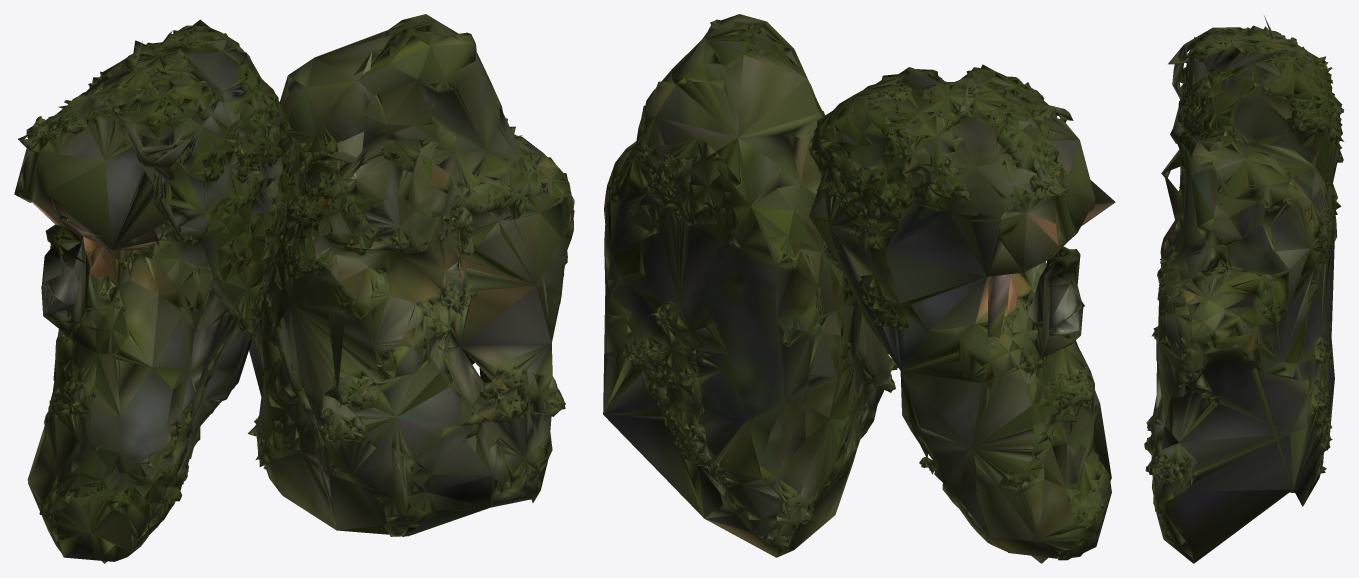
File: prop_rock_cluster_01.glb
3 views of the same model, side by side, from view 1: azimuth 30°, elevation 25°; view 2: azimuth 150°, elevation 25°; view 3: azimuth 270°, elevation 25° (orthographic). The views are drawn at different scales.
Parts seen in each view (by area): view 1: geometry_0; view 2: geometry_0; view 3: geometry_0.
Part boxes in pixels (bbox=[...]): geometry_0: bbox=[14, 14, 574, 563]; geometry_0: bbox=[603, 14, 1115, 563]; geometry_0: bbox=[1144, 15, 1343, 563].
Bounding box in the file's own units: 0.9857 × 0.9693 × 0.4248.
Materials: 1 (1 with a texture image).
